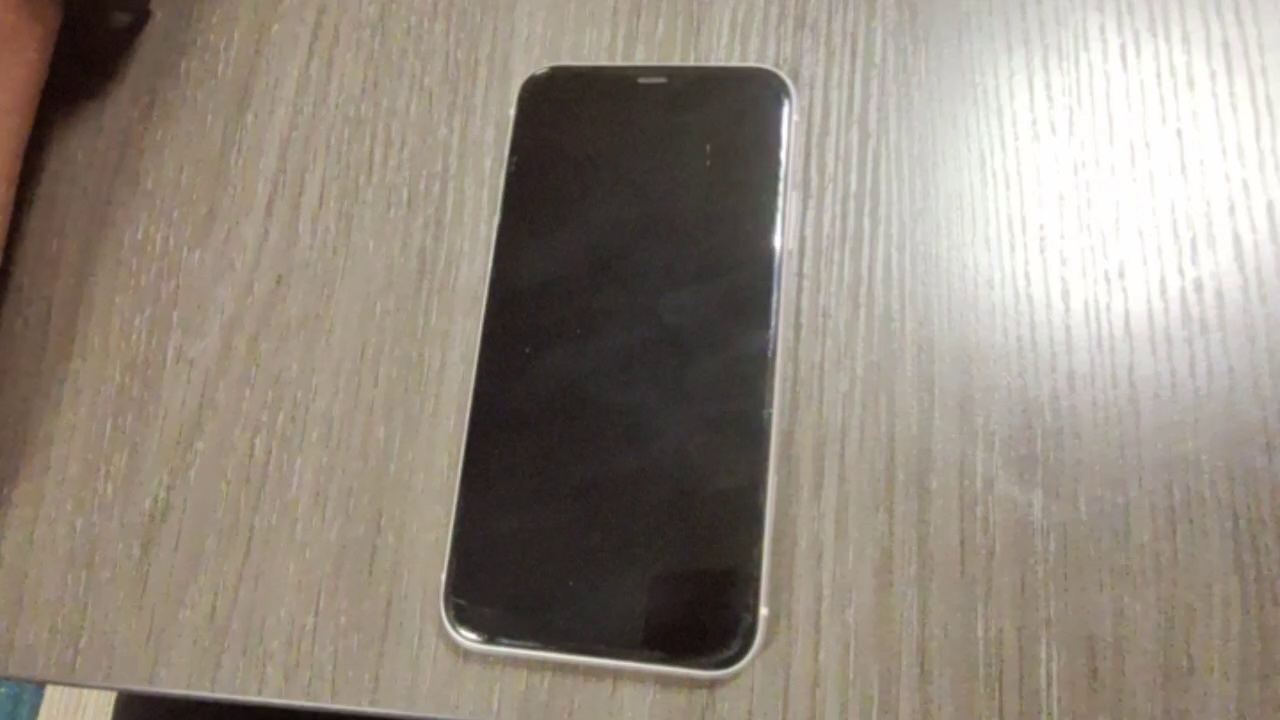celular: (437, 63, 798, 680)
